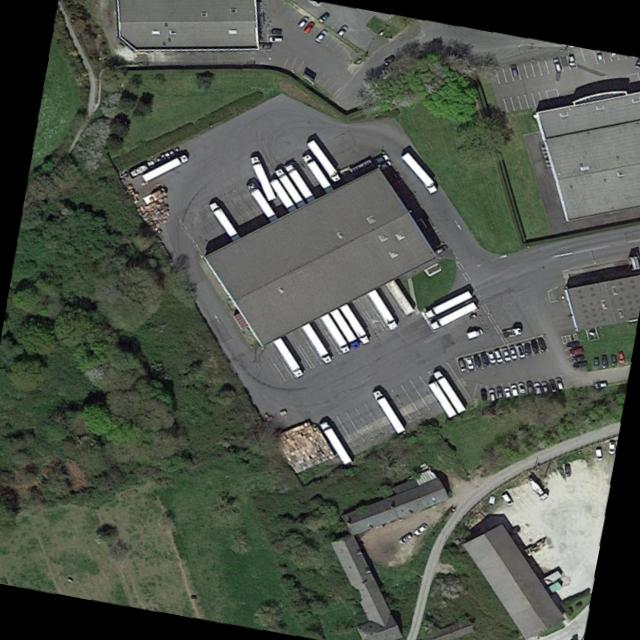large-vehicle: (400, 151, 438, 194), (370, 388, 404, 433), (306, 139, 341, 182), (318, 420, 351, 464), (428, 301, 477, 330), (432, 369, 464, 413), (423, 289, 471, 318), (338, 303, 370, 344), (367, 288, 398, 330), (301, 153, 333, 193), (319, 312, 350, 353), (246, 181, 277, 222), (283, 162, 314, 203), (140, 154, 187, 181), (301, 322, 331, 364), (208, 200, 239, 240), (272, 337, 303, 377), (329, 307, 359, 348), (274, 166, 304, 207), (249, 155, 275, 200)
small-vehicle: (524, 476, 549, 501), (500, 325, 521, 339), (411, 521, 428, 537), (312, 26, 328, 43), (464, 326, 483, 340), (498, 490, 514, 506), (397, 529, 412, 544), (301, 19, 315, 35), (373, 151, 389, 165), (506, 342, 518, 360), (295, 14, 309, 29), (550, 56, 562, 73), (514, 342, 526, 359), (500, 345, 512, 362), (484, 348, 496, 365), (478, 349, 489, 367), (456, 355, 467, 373), (316, 9, 330, 23), (614, 348, 626, 364), (570, 351, 586, 363), (535, 336, 547, 352), (592, 378, 608, 390), (571, 358, 588, 369), (566, 345, 583, 356), (377, 158, 391, 171), (380, 54, 395, 66), (400, 192, 415, 204), (492, 347, 504, 362), (336, 22, 348, 37), (553, 375, 564, 391), (521, 341, 532, 356), (432, 244, 447, 255), (471, 353, 482, 368), (384, 171, 398, 182), (464, 353, 473, 370), (529, 338, 539, 353), (564, 339, 580, 348), (508, 63, 518, 77), (599, 353, 609, 367), (593, 446, 603, 460), (524, 379, 533, 394), (565, 53, 575, 66), (389, 177, 402, 187), (509, 383, 518, 397), (532, 381, 541, 395), (255, 41, 270, 49), (487, 387, 495, 402), (516, 382, 526, 394), (539, 381, 549, 393), (547, 379, 556, 392), (609, 352, 617, 366), (267, 35, 283, 42), (563, 461, 571, 475), (479, 387, 487, 401), (502, 386, 510, 399), (495, 385, 502, 398), (592, 356, 599, 368), (270, 27, 282, 34)
